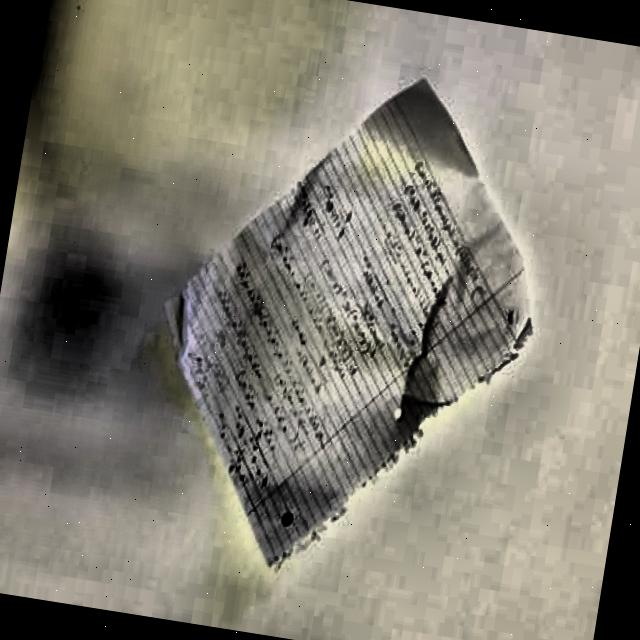paper: (128, 41, 575, 607)
